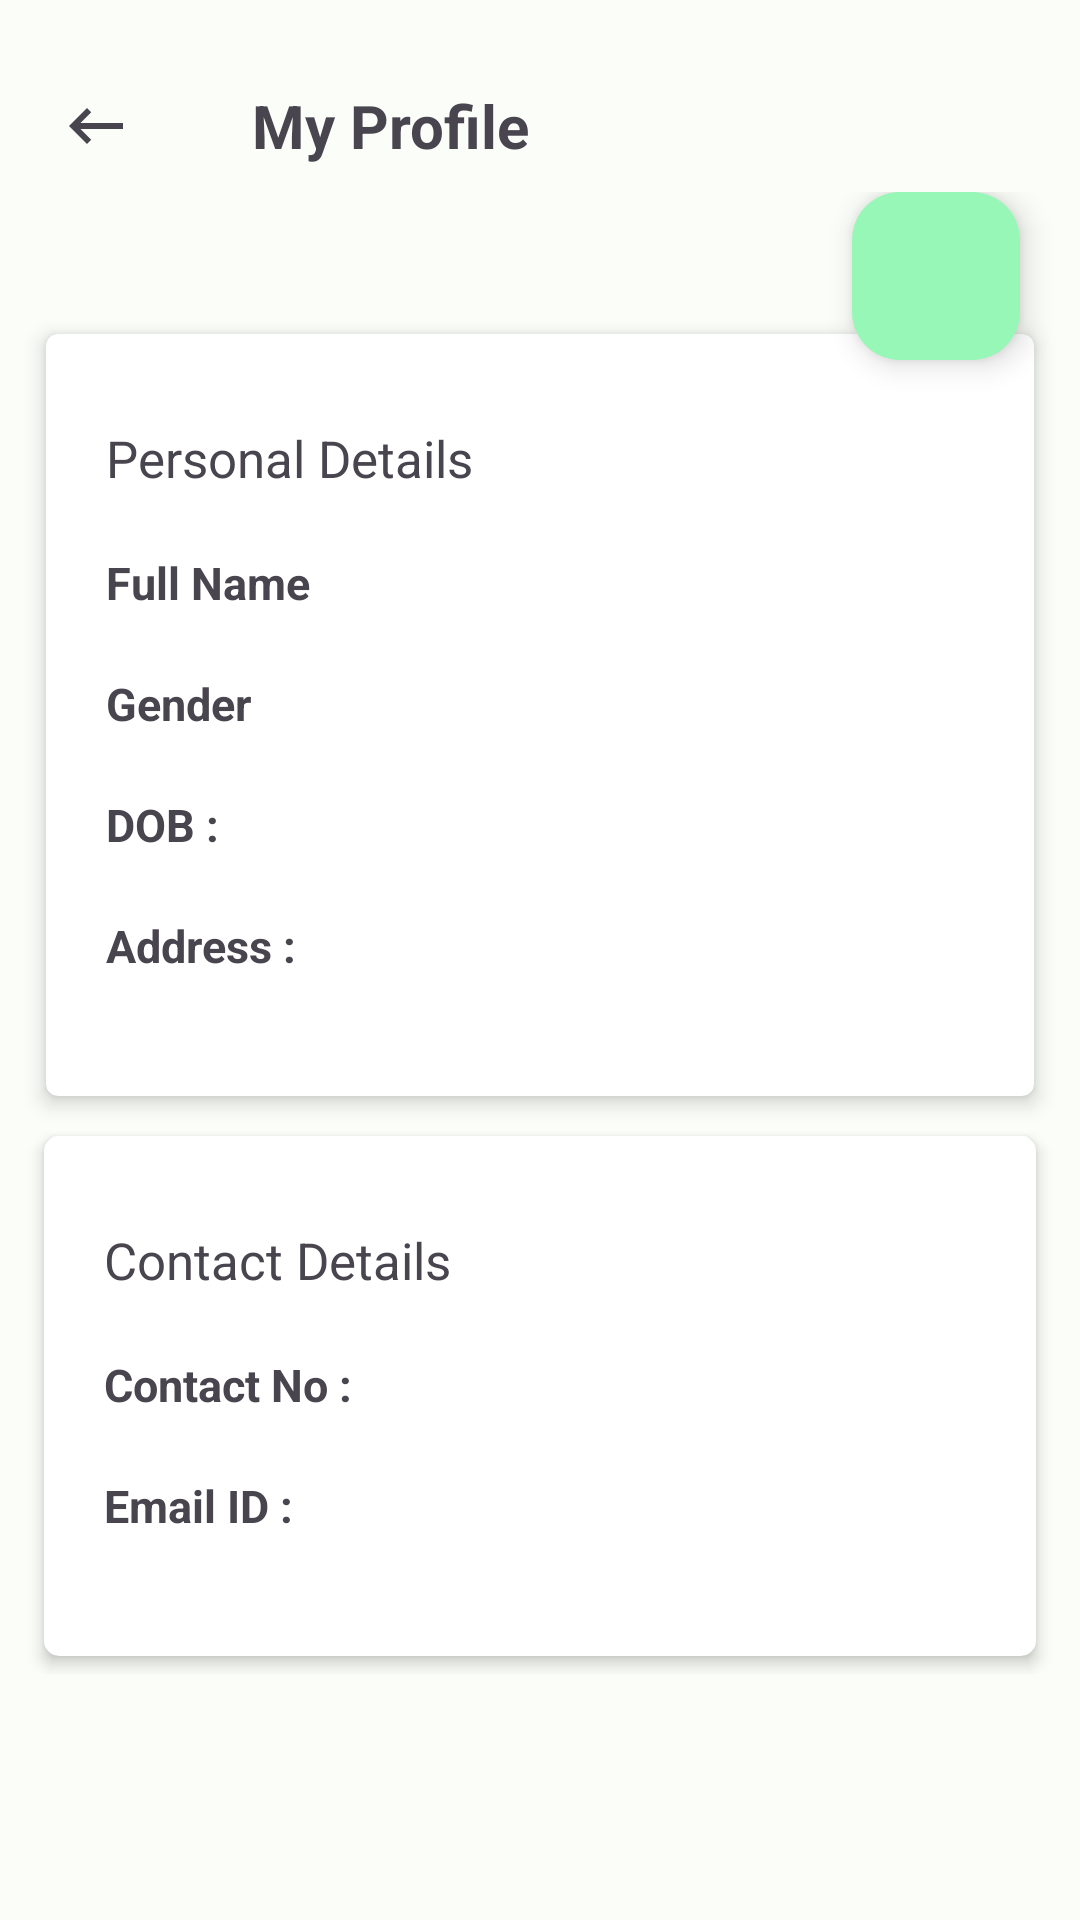

Named icons in this screenshot (1080*1920) and their centers, (x,y):
keyboard backspace: (96,126)
